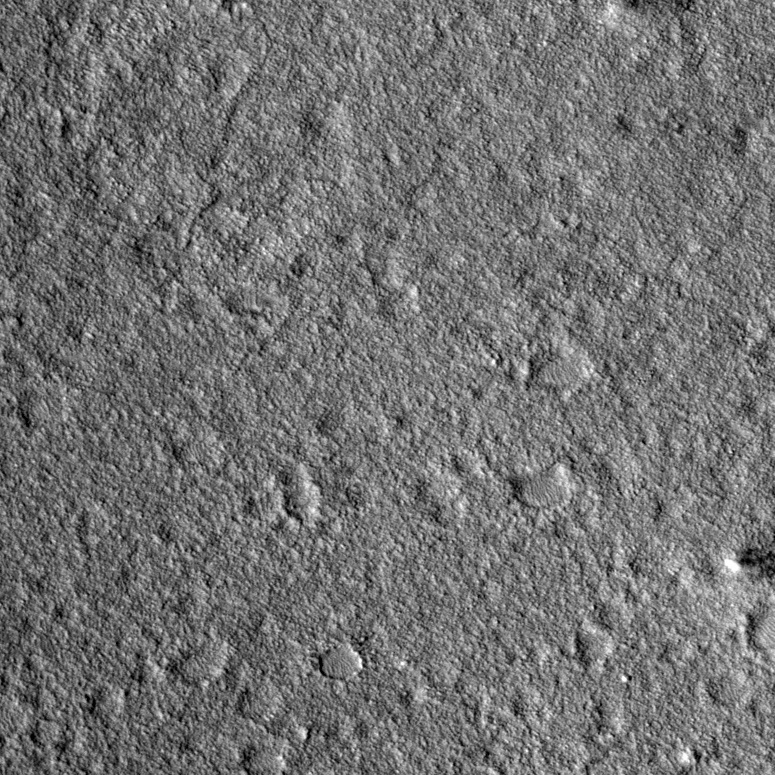dust_devil: (722, 552, 775, 574)
